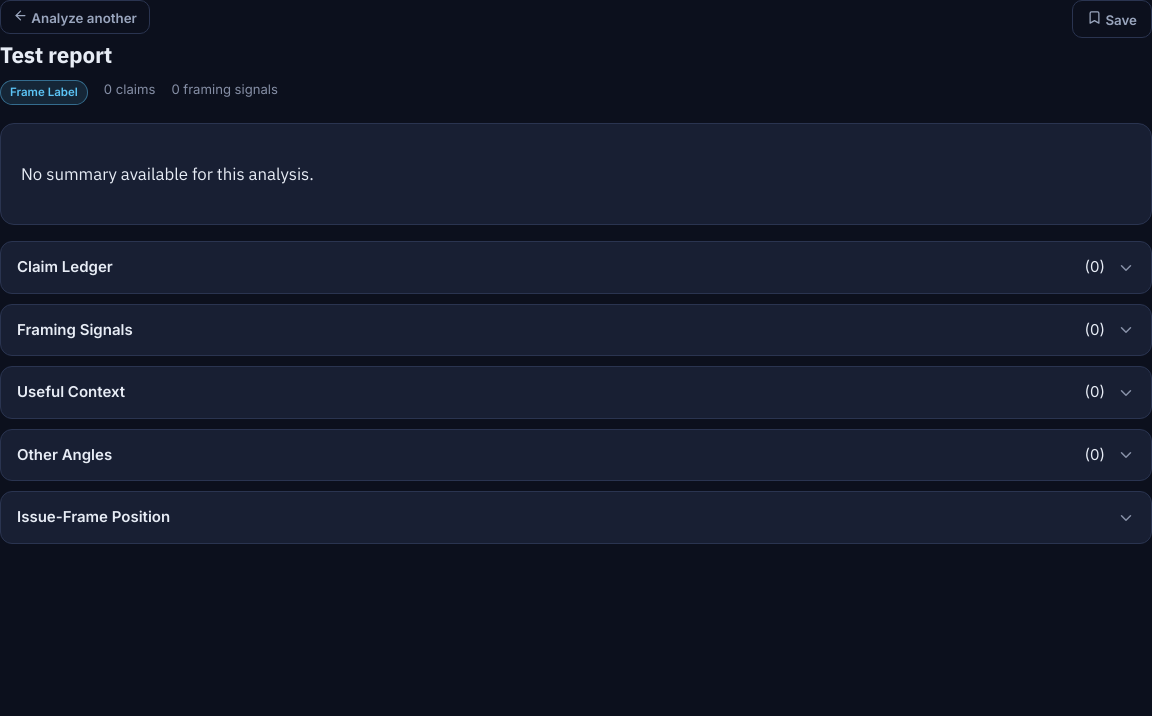
Test: Property 9: every issue-frame position has text, and no marker renders without it › renders each axis marker only alongside its non-empty axis text
What coordinates should you click on to do the following:
click the button "Issue-Frame Position"
I would click on:
 (94, 517)
Its box is [17,507,1135,527].
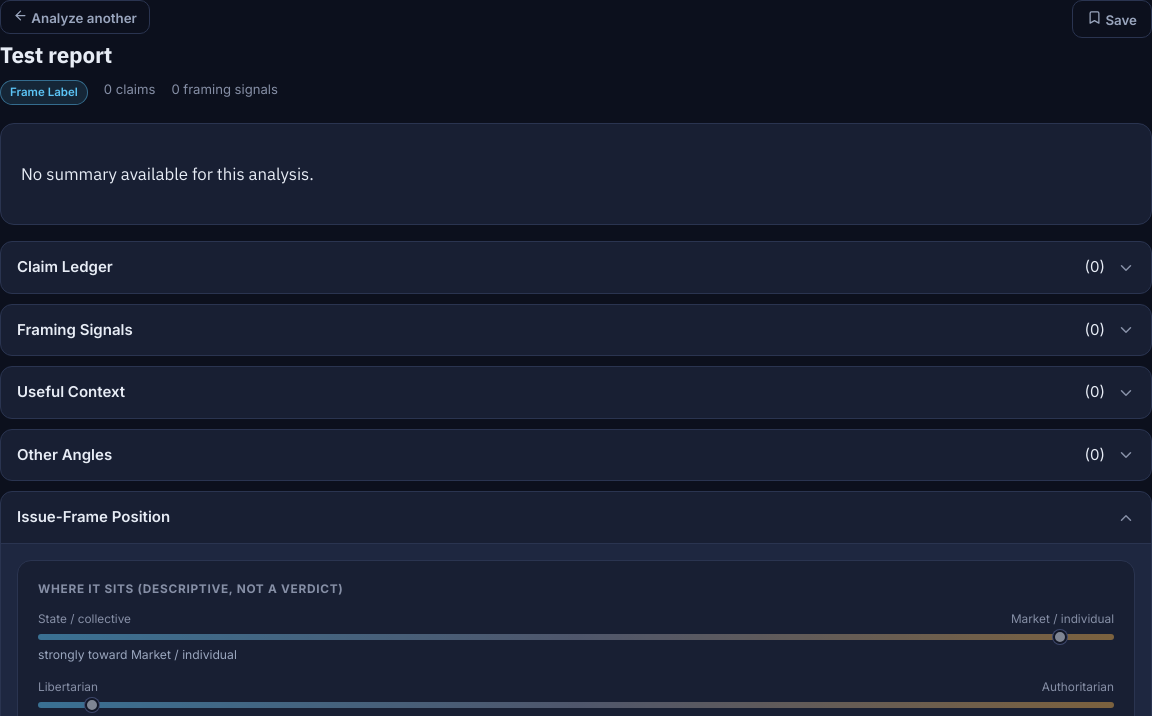
expect the number of pictures with class "marker" is 2: met, box [1053,630,1067,644]; [85,698,99,712]
